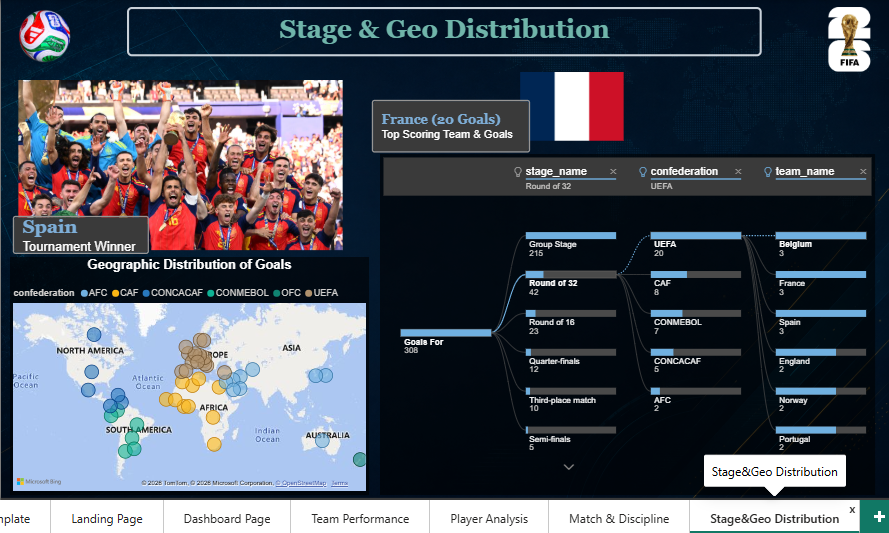

The dashboard page shown, as its layout file describes it:
{"tool":"powerbi","page":{"name":"Stage&Geo Distribution","canvas":[1280,720],"ordinal":6},"visuals":[{"type":"image","box":[1161.4,10,118.3,93.3],"z":0},{"type":"image","title":"Navigation","box":[0,10.1,125.3,80.6],"z":1000},{"type":"textbox","box":[181.4,10.1,914.4,70.6],"z":2000},{"type":"decompositionTreeVisual","fields":{"Analyze":["_Measures.Goals For"],"ExplainBy":["tournament_stages.stage_name","teams.confederation","teams.team_name"]},"box":[545.8,221.8,712.8,491],"z":3000},{"type":"map","title":"Geographic Distribution of Goals","fields":{"Size":["_Measures.Total Teams"],"Category":["teams.team_name"],"Series":["teams.confederation"]},"box":[13,370.1,517,342.7],"z":4000},{"type":"image","box":[0,115.2,517,244.8],"z":5000},{"type":"image","box":[741.6,103.7,161.3,99.4],"z":5500},{"type":"cardVisual","fields":{"Data":["_Measures.Top Scoring Team"]},"box":[517,126.7,262.1,110.9],"z":6000},{"type":"cardVisual","fields":{"Data":["_Measures.Winner Name"]},"box":[0,293.8,230.4,89.3],"z":7000}]}

Visuals, with their boxes on the page's 1280x720 design canvas (x1, y1, x2, y2). These are canvas units, not pixel positions in the 889x533 screenshot, which may show the page scaled, cropped or inside an application window:
image: locate(1161, 10, 1280, 103)
"Navigation" image: locate(0, 10, 125, 91)
textbox: locate(181, 10, 1096, 81)
decompositionTreeVisual - _Measures.Goals For x tournament_stages.stage_name: locate(546, 222, 1259, 713)
"Geographic Distribution of Goals" map: locate(13, 370, 530, 713)
image: locate(0, 115, 517, 360)
image: locate(742, 104, 903, 203)
cardVisual - _Measures.Top Scoring Team: locate(517, 127, 779, 238)
cardVisual - _Measures.Winner Name: locate(0, 294, 230, 383)
